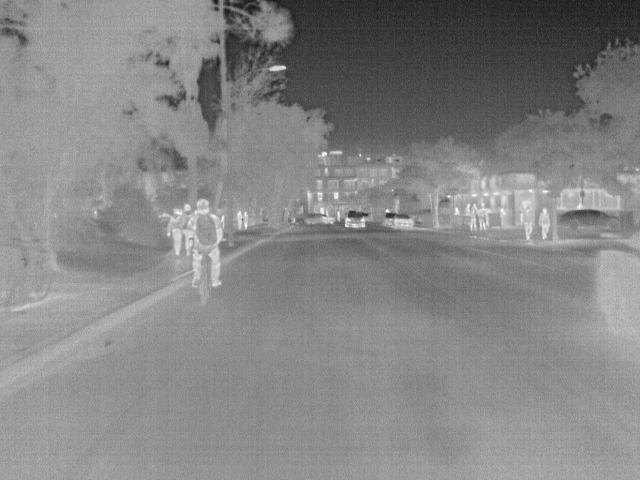car: (591, 229, 640, 333), (556, 210, 626, 234), (344, 209, 370, 230), (385, 212, 416, 229), (305, 211, 335, 227)
person: (189, 198, 223, 288), (168, 207, 186, 254), (182, 200, 197, 255), (521, 204, 535, 240), (467, 202, 480, 232), (539, 208, 551, 239), (477, 204, 490, 230), (241, 209, 250, 233), (236, 209, 244, 231), (463, 202, 473, 214), (452, 206, 462, 216)
